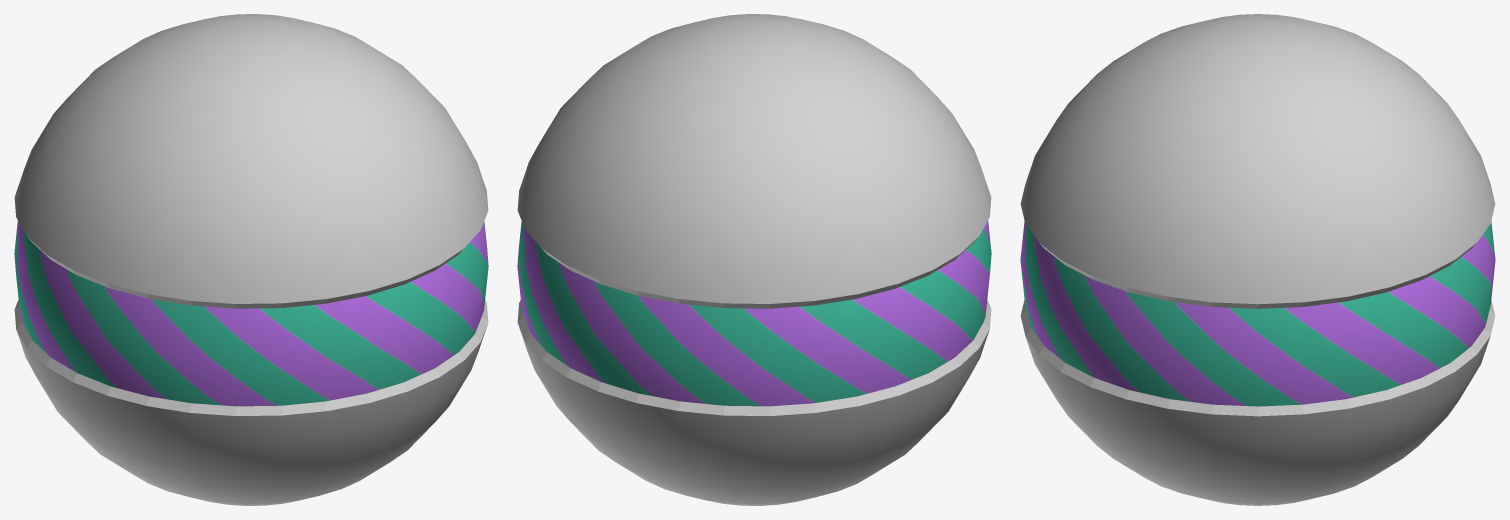
Rendered from VIOLET_Sphere_move.FBX.
3 renders of one model, left to right at view 1: azimuth 30°, elevation 25°; view 2: azimuth 150°, elevation 25°; view 3: azimuth 270°, elevation 25°, orthographic.
Parts seen in each view (by area): view 1: VIOLET_Sphere_move, RotateMesh; view 2: VIOLET_Sphere_move, RotateMesh; view 3: VIOLET_Sphere_move, RotateMesh.
Boxes of the visible parts, left/top/right/bottom form: VIOLET_Sphere_move: left=14, top=14, right=488, bottom=505; RotateMesh: left=14, top=220, right=488, bottom=406; VIOLET_Sphere_move: left=517, top=14, right=991, bottom=505; RotateMesh: left=517, top=220, right=991, bottom=406; VIOLET_Sphere_move: left=1020, top=14, right=1495, bottom=505; RotateMesh: left=1020, top=221, right=1495, bottom=406.
Size of the model in its own units: 62.26 by 64.54 by 62.26.
